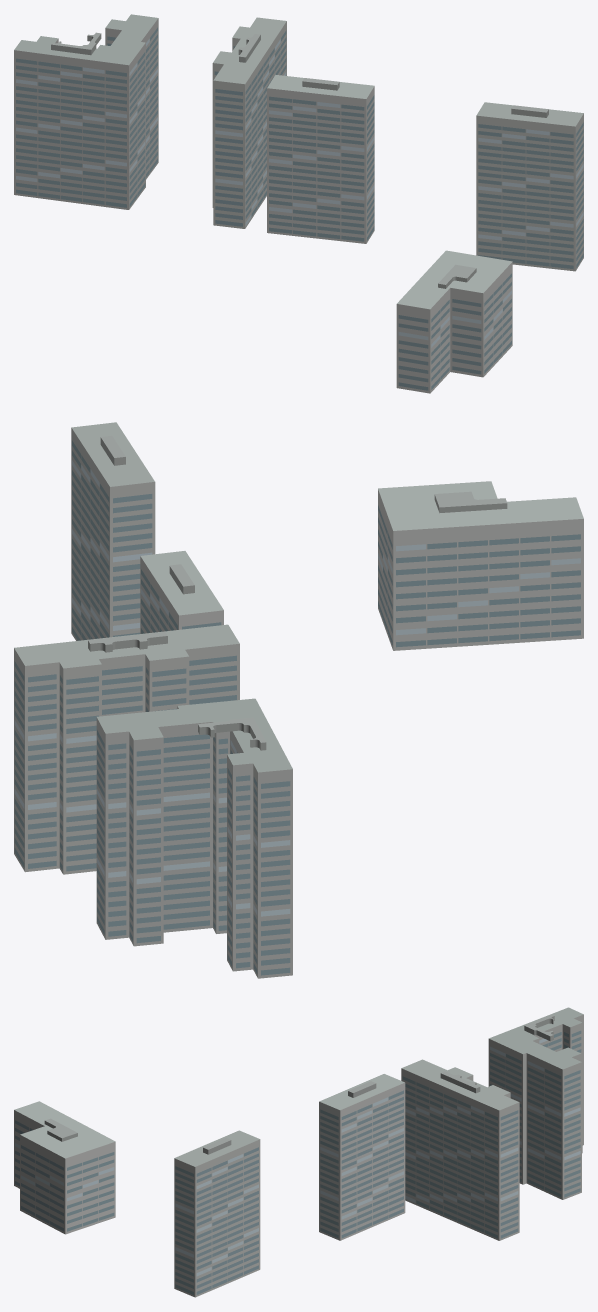
The model's file is apt-a10024564.glb.
The picture shows the model from 3 angles, top to bottom: view 1: azimuth 30°, elevation 25°; view 2: azimuth 150°, elevation 25°; view 3: azimuth 270°, elevation 25°; orthographic projection. The views are drawn at different scales.
Visible parts, largest first — view 1: apt-a10024564; view 2: apt-a10024564; view 3: apt-a10024564.
Part boxes in pixels (x1=…): apt-a10024564: x1=14, y1=14, x2=583, y2=393; apt-a10024564: x1=14, y1=422, x2=583, y2=978; apt-a10024564: x1=14, y1=1007, x2=583, y2=1297.
Size of the model in its own units: 168 by 66.45 by 253.
